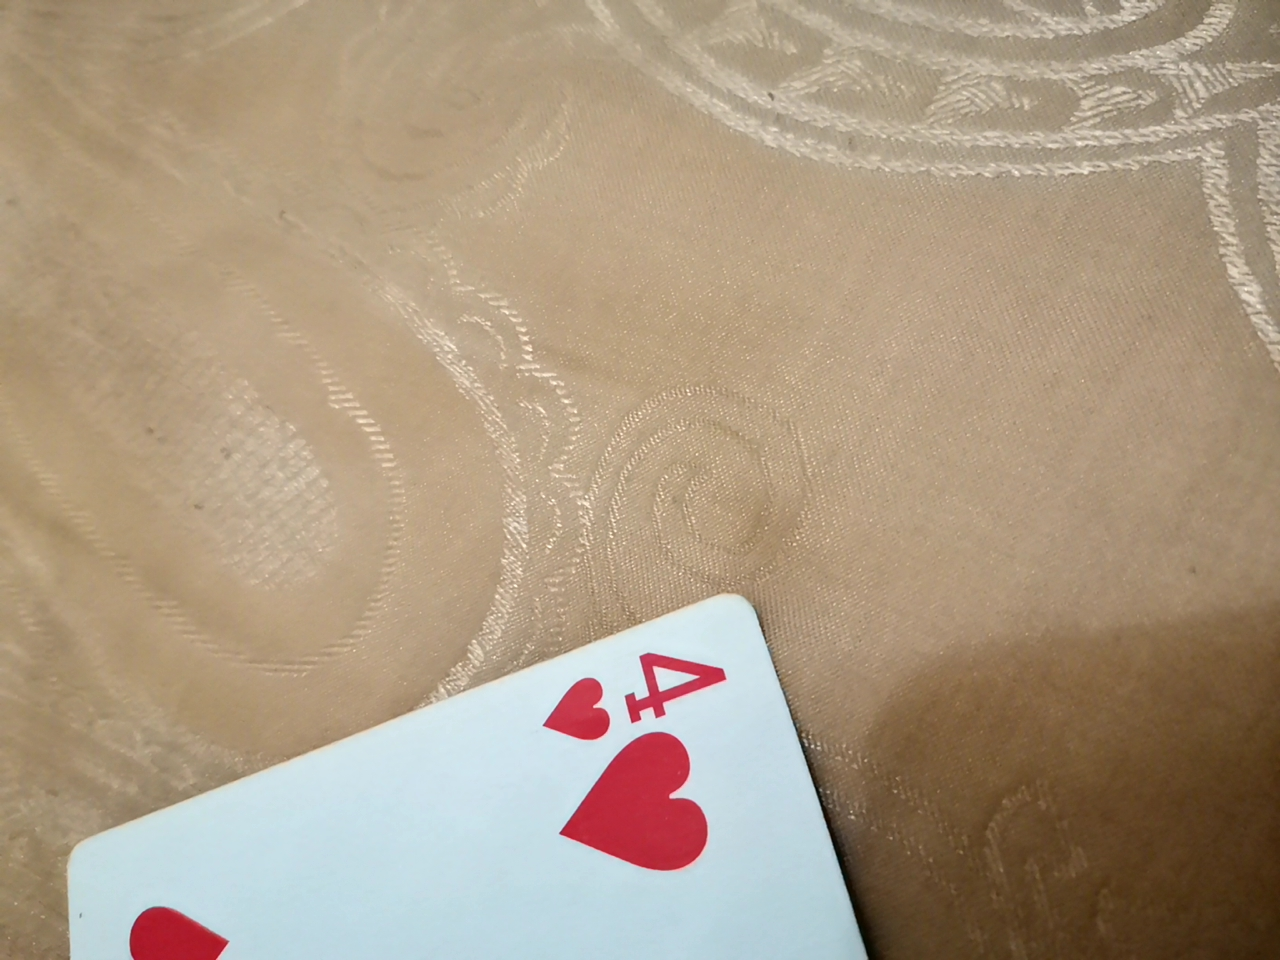hx 4: (41, 591, 1001, 957)
